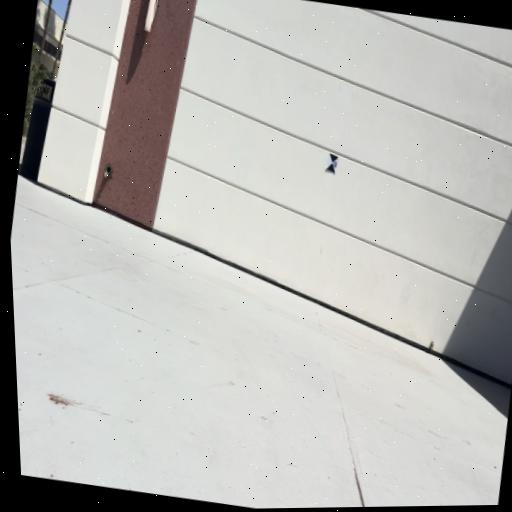target0: (325, 152, 339, 175)
